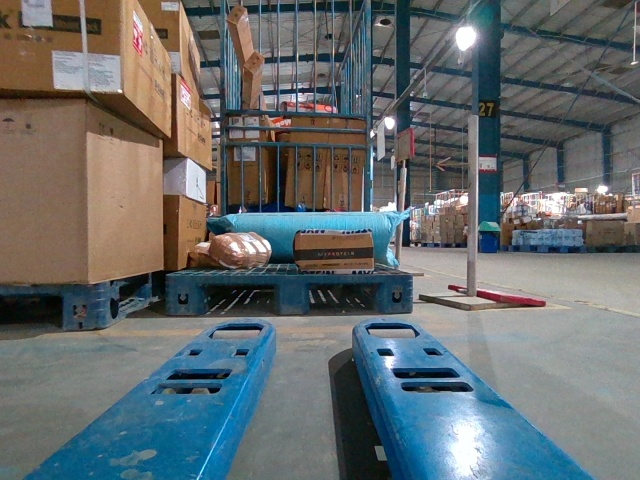pallet: (165, 272, 413, 313)
